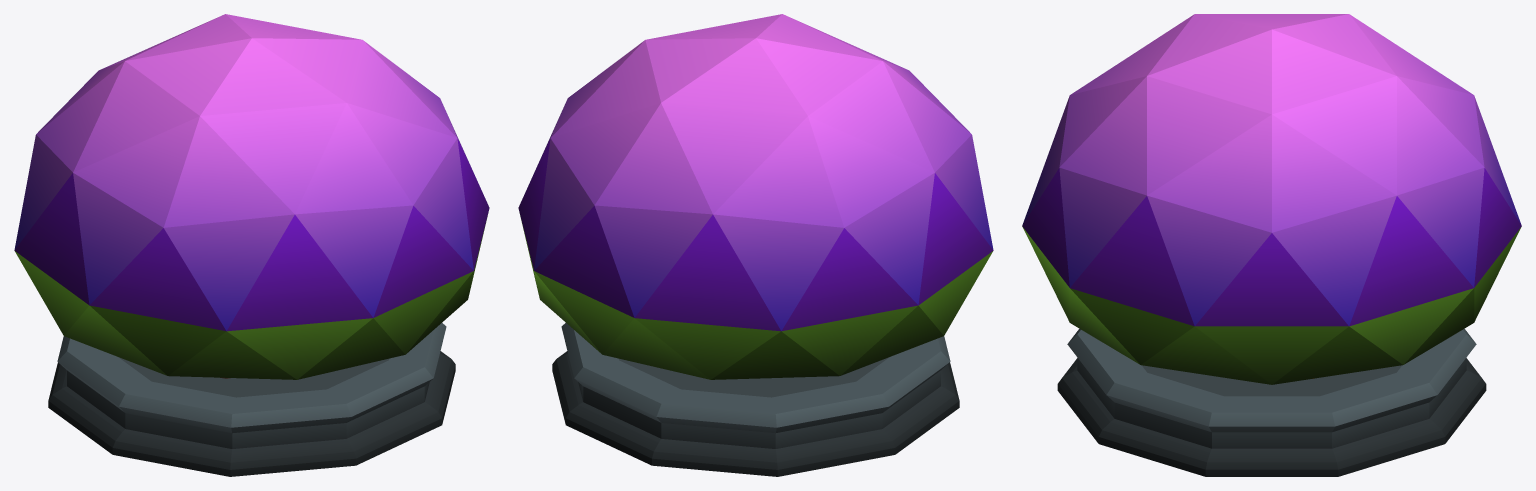
The model's file is FlatVase_Purple.fbx.
The picture shows the model from 3 angles, left to right: view 1: azimuth 30°, elevation 25°; view 2: azimuth 150°, elevation 25°; view 3: azimuth 270°, elevation 25°; orthographic projection. The views are drawn at different scales.
Visible parts, largest first — view 1: FlatVase_Purple; view 2: FlatVase_Purple; view 3: FlatVase_Purple.
Part boxes in pixels (left/top/right/bottom): FlatVase_Purple: left=14, top=14, right=489, bottom=476; FlatVase_Purple: left=518, top=14, right=993, bottom=476; FlatVase_Purple: left=1022, top=14, right=1521, bottom=476.
Size of the model in its own units: 280 by 235 by 294.
